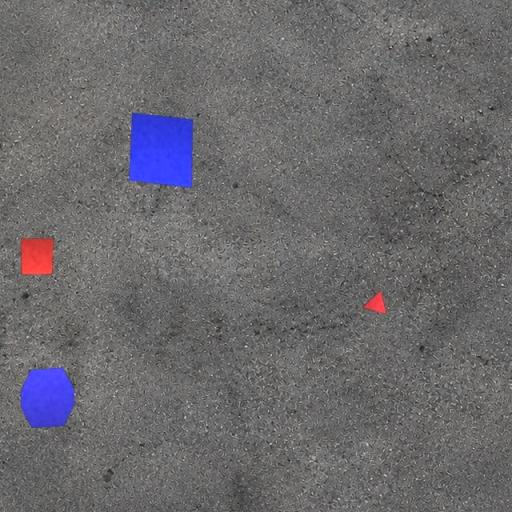BLUE_SQUARE: (128, 112, 194, 189)
RED_SQUARE: (20, 238, 54, 275)
